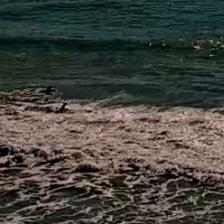surfer: (41, 86, 54, 94)
